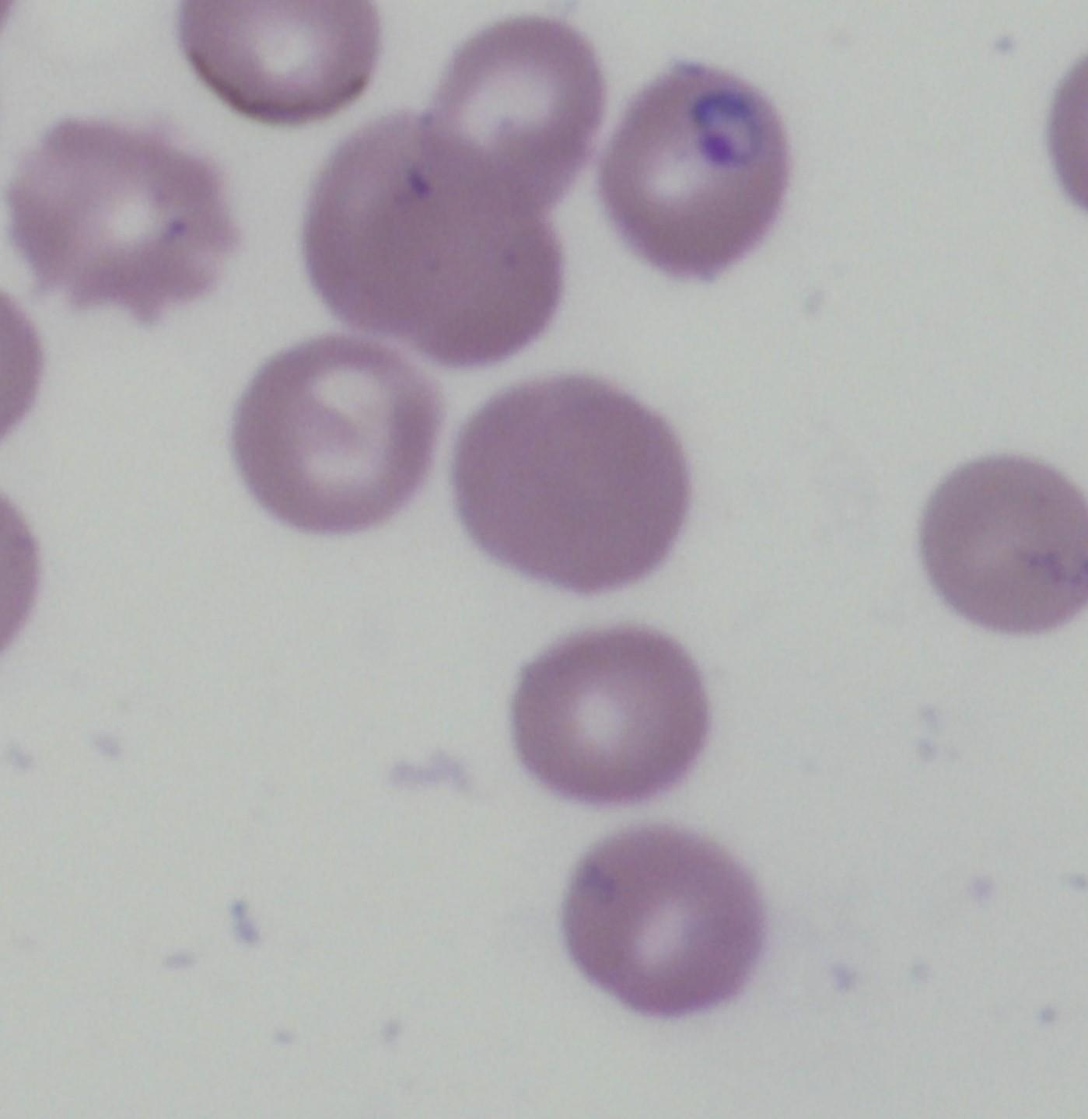Infected: (601, 66, 786, 279)
Uninfected: (454, 377, 690, 594), (301, 115, 513, 342), (550, 815, 766, 1021), (10, 120, 232, 319), (233, 340, 448, 542), (425, 11, 600, 227), (516, 628, 714, 802), (913, 447, 1088, 634), (378, 180, 556, 361), (180, 0, 384, 117)
